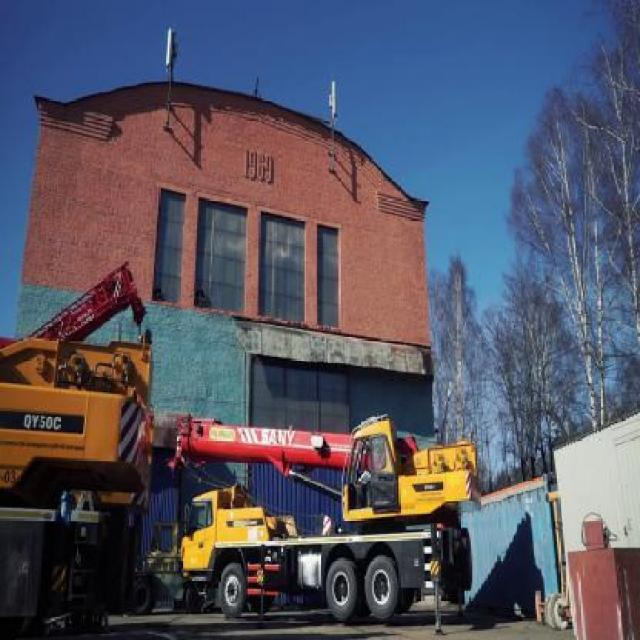Mobile Crane: (178, 416, 474, 639)
